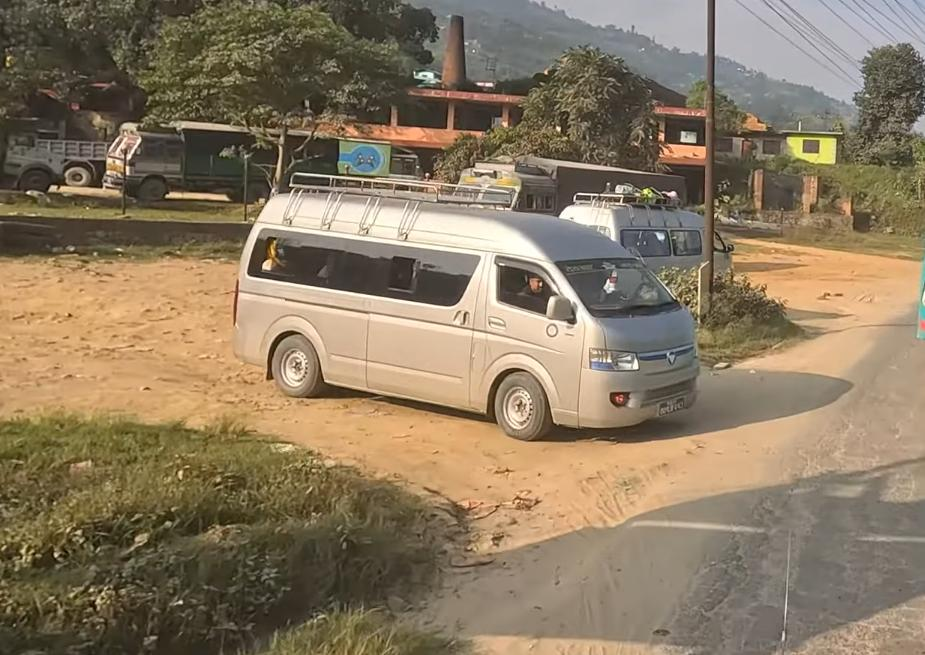micro_bus: (227, 166, 732, 455), (561, 189, 740, 293)
truck: (102, 120, 337, 204)
